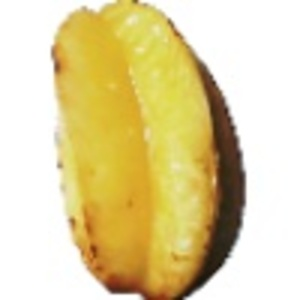carambola: (50, 1, 247, 300)
